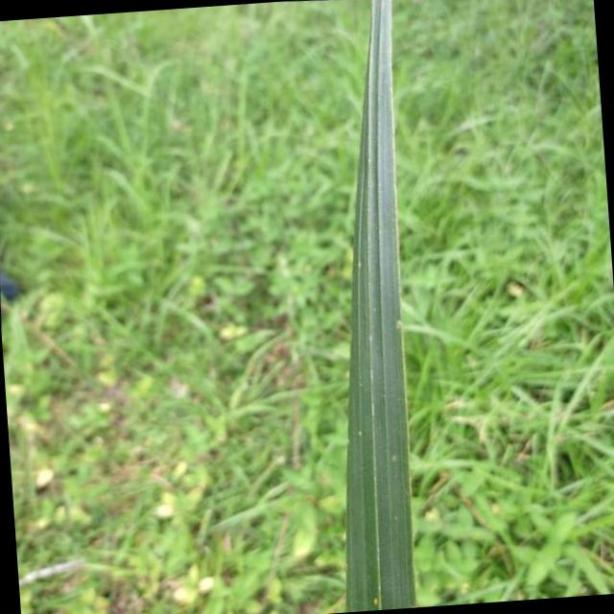Boron: (349, 0, 419, 614)
